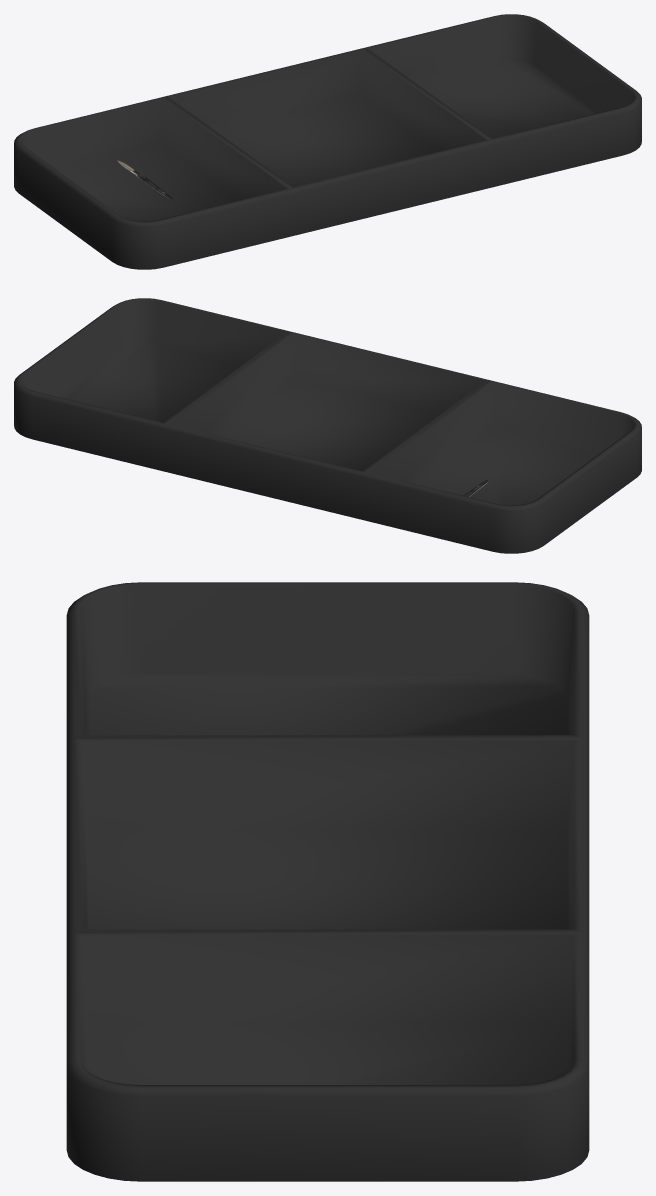
Rendered from inBetweenDisposable.FBX.
3 renders of one model, top to bottom at view 1: azimuth 30°, elevation 25°; view 2: azimuth 150°, elevation 25°; view 3: azimuth 270°, elevation 25°, orthographic. The views are drawn at different scales.
Visible parts, largest first — view 1: DisposableBox; view 2: DisposableBox; view 3: DisposableBox.
Part boxes in pixels (left/top/right/bottom): DisposableBox: left=14, top=14, right=641, bottom=269; DisposableBox: left=14, top=298, right=641, bottom=553; DisposableBox: left=66, top=582, right=589, bottom=1181.
Bounding box in the file's own units: 1.46 × 0.1204 × 0.6317.
Materials: 2 (1 with a texture image).
